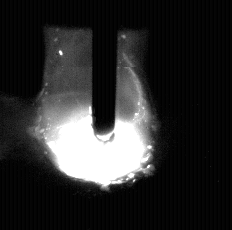arame: (93, 0, 117, 145)
poca: (42, 0, 153, 230)
